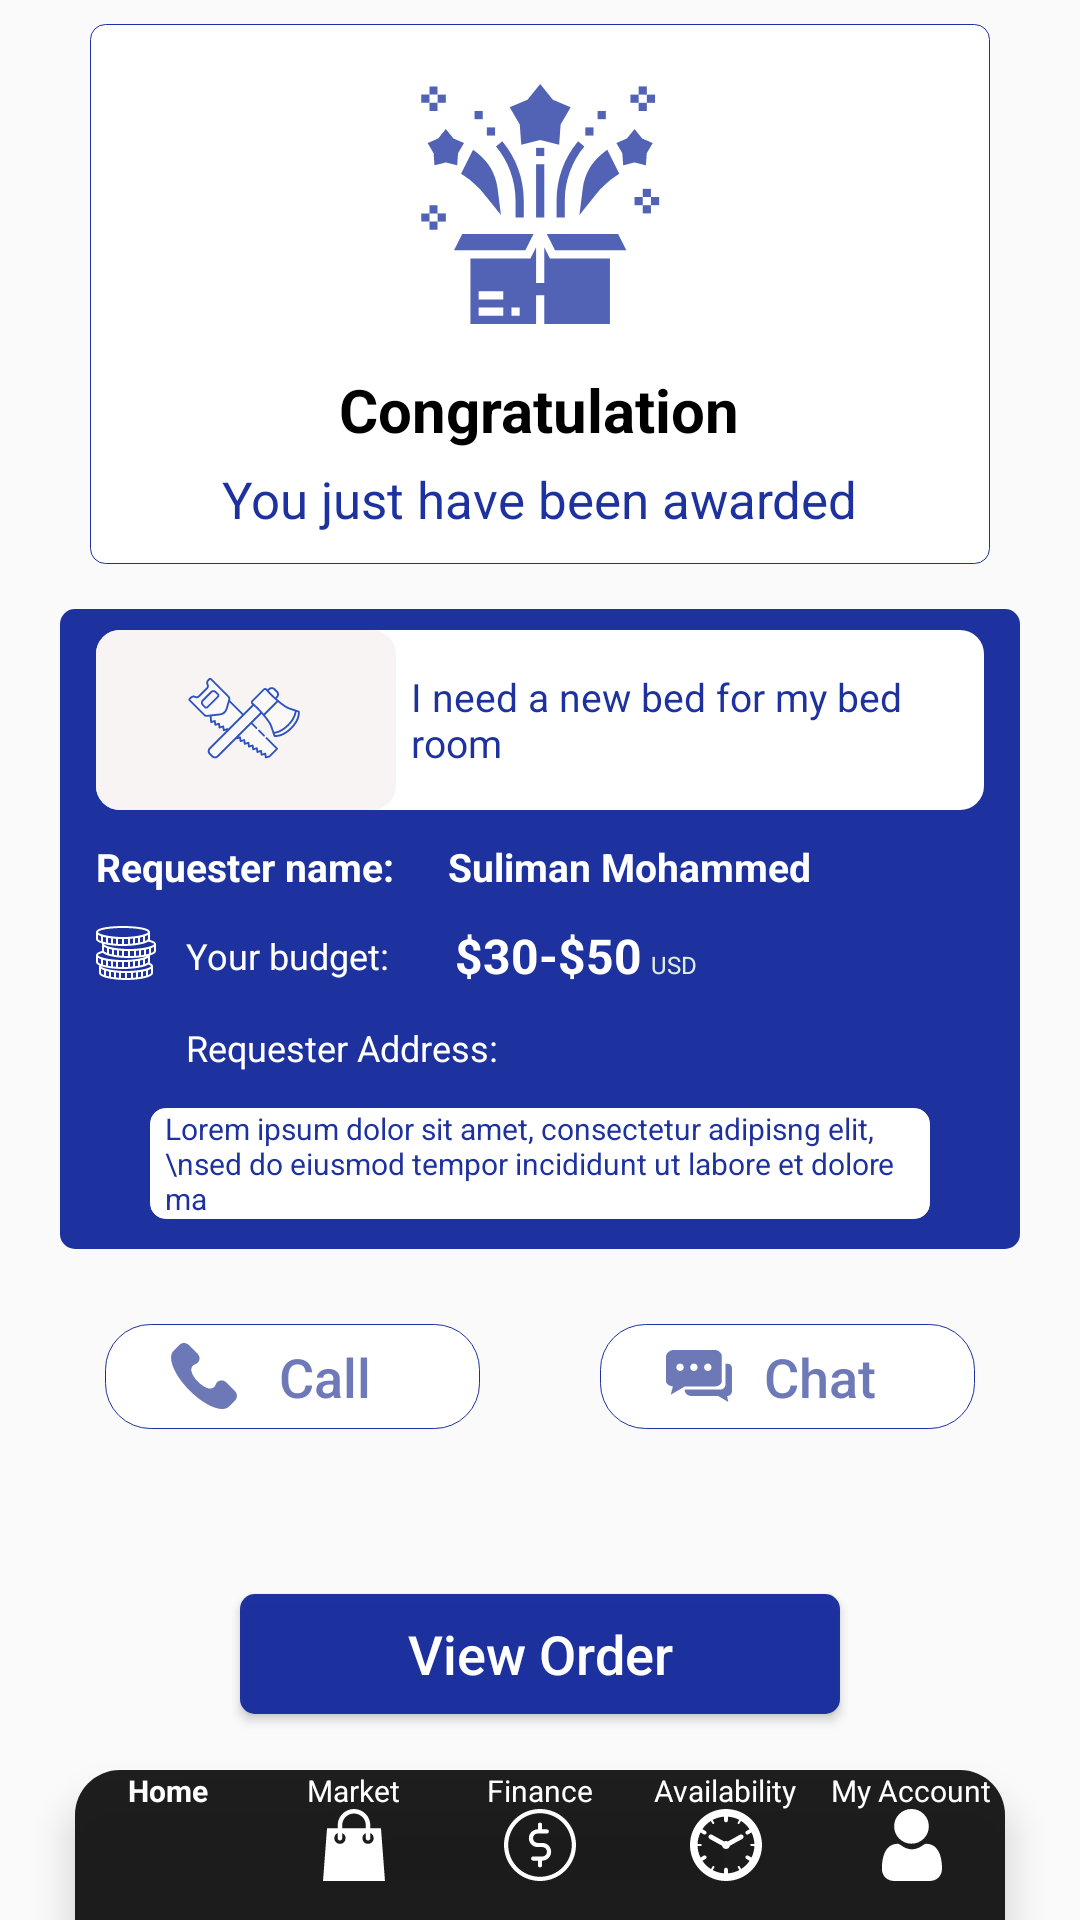

Screen size 1080*1920. Icon name, then its center in pixels as (x=x, y=y):
coins: (x=126, y=953)
woodwork: (x=246, y=720)
